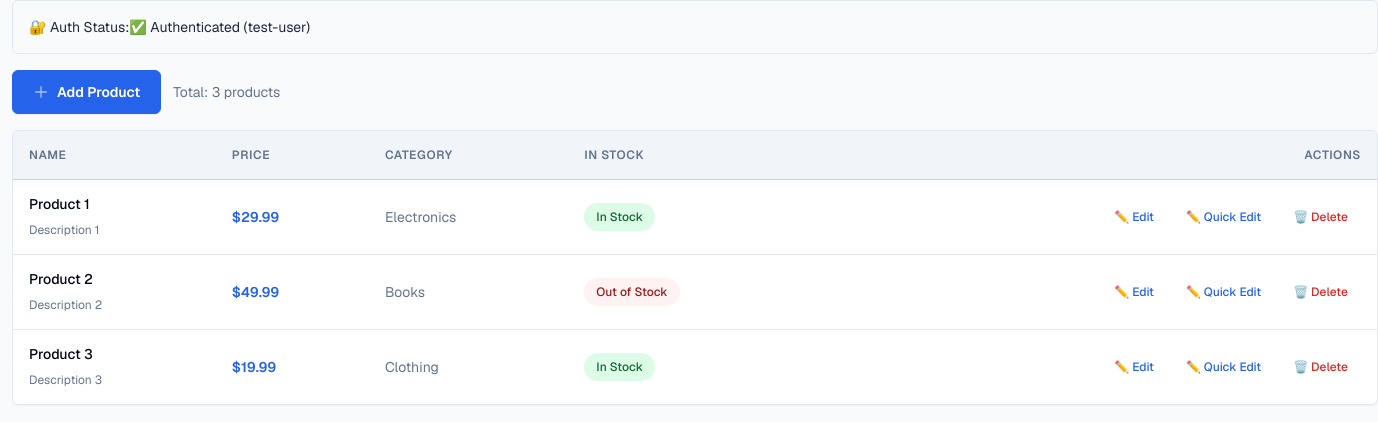
Test case: ProductList Component › Loading States › should show loading state while deleting
The width and height of the screenshot is (1378, 422).
Expected: the text "Product 1" is shown, top-left (29, 195), bottom-right (90, 213)
What coordinates should you click on to do the following:
click the button "🗑️ Delete" in the row of "Product 1"
I would click on:
 (1321, 217)
Its box is top-left (1280, 200), bottom-right (1361, 234).
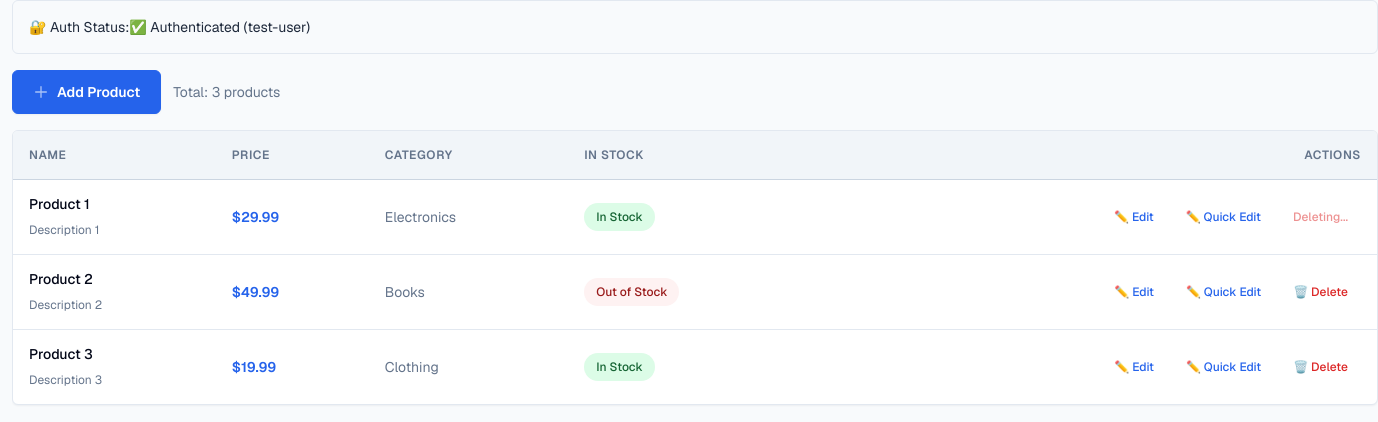
Result: the button "Deleting..." is shown at top-left (1280, 200), bottom-right (1361, 234)
